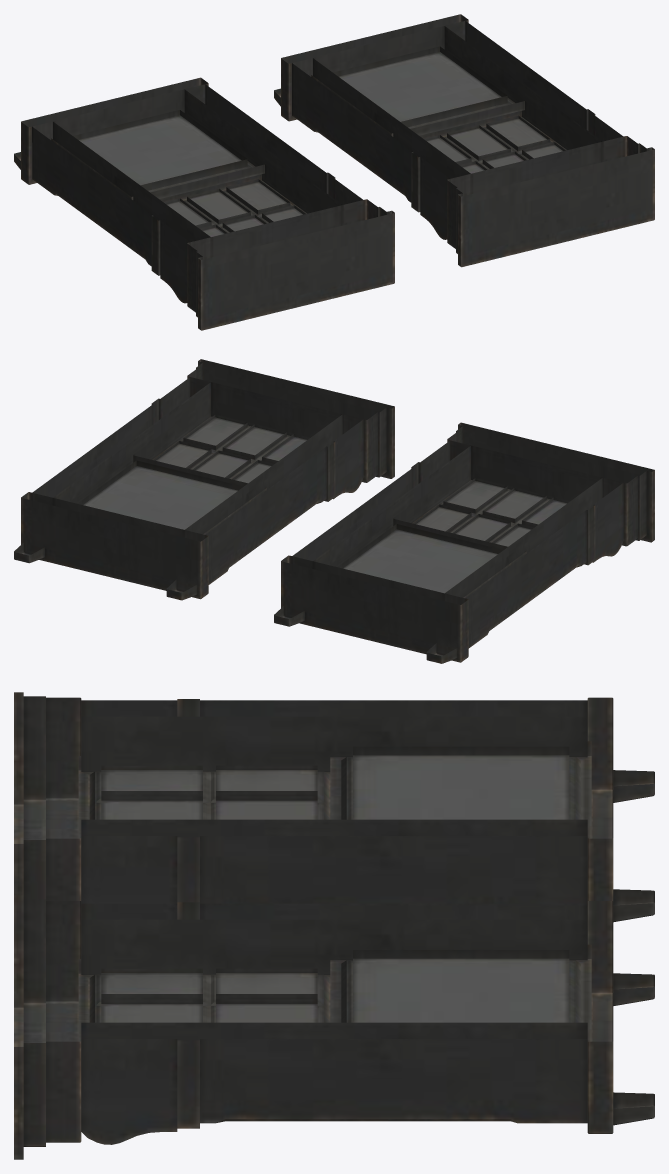
The model's file is window_centered_double_02.gltf.
The picture shows the model from 3 angles, top to bottom: view 1: azimuth 30°, elevation 25°; view 2: azimuth 150°, elevation 25°; view 3: azimuth 270°, elevation 25°; orthographic projection. The views are drawn at different scales.
Visible parts, largest first — view 1: window_centered_double_02; view 2: window_centered_double_02; view 3: window_centered_double_02.
Boxes of the visible parts, x1=… form: window_centered_double_02: x1=14, y1=14, x2=654, y2=330; window_centered_double_02: x1=14, y1=359, x2=654, y2=663; window_centered_double_02: x1=14, y1=692, x2=654, y2=1159.
Bounding box in the file's own units: 2.62 × 0.39 × 2.
2 materials, 2 textured.
